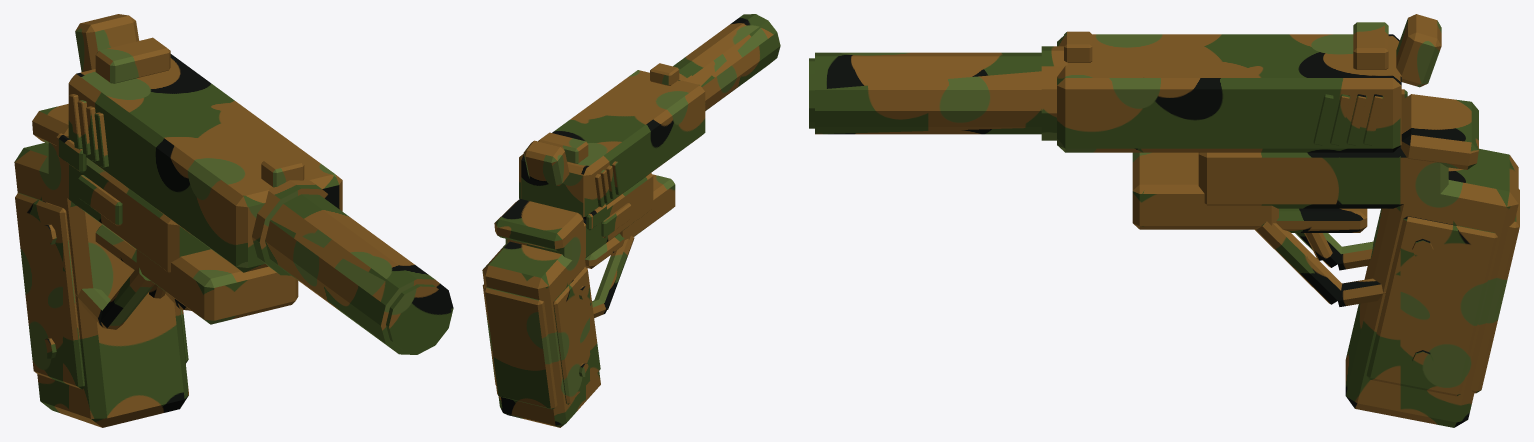
File: SuppressedPistol_RuralCamo.glb
3 views of the same model, side by side, from view 1: azimuth 30°, elevation 25°; view 2: azimuth 150°, elevation 25°; view 3: azimuth 270°, elevation 25° (orthographic). The views are drawn at different scales.
Visible parts, largest first — view 1: FTF_Weapon_SuppressedPistol_RuralCamo_Mesh; view 2: FTF_Weapon_SuppressedPistol_RuralCamo_Mesh; view 3: FTF_Weapon_SuppressedPistol_RuralCamo_Mesh.
Part boxes in pixels (x1,y1,x2,y2): FTF_Weapon_SuppressedPistol_RuralCamo_Mesh: (14,14,453,427); FTF_Weapon_SuppressedPistol_RuralCamo_Mesh: (482,14,780,427); FTF_Weapon_SuppressedPistol_RuralCamo_Mesh: (809,14,1519,427).
Bounding box in the file's own units: 0.284 × 0.903 × 1.51.
1 material, 1 textured.
